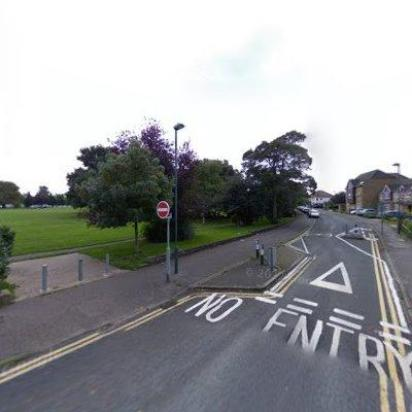stationary-car-onstreet: (355, 206, 377, 218), (308, 208, 320, 218)
